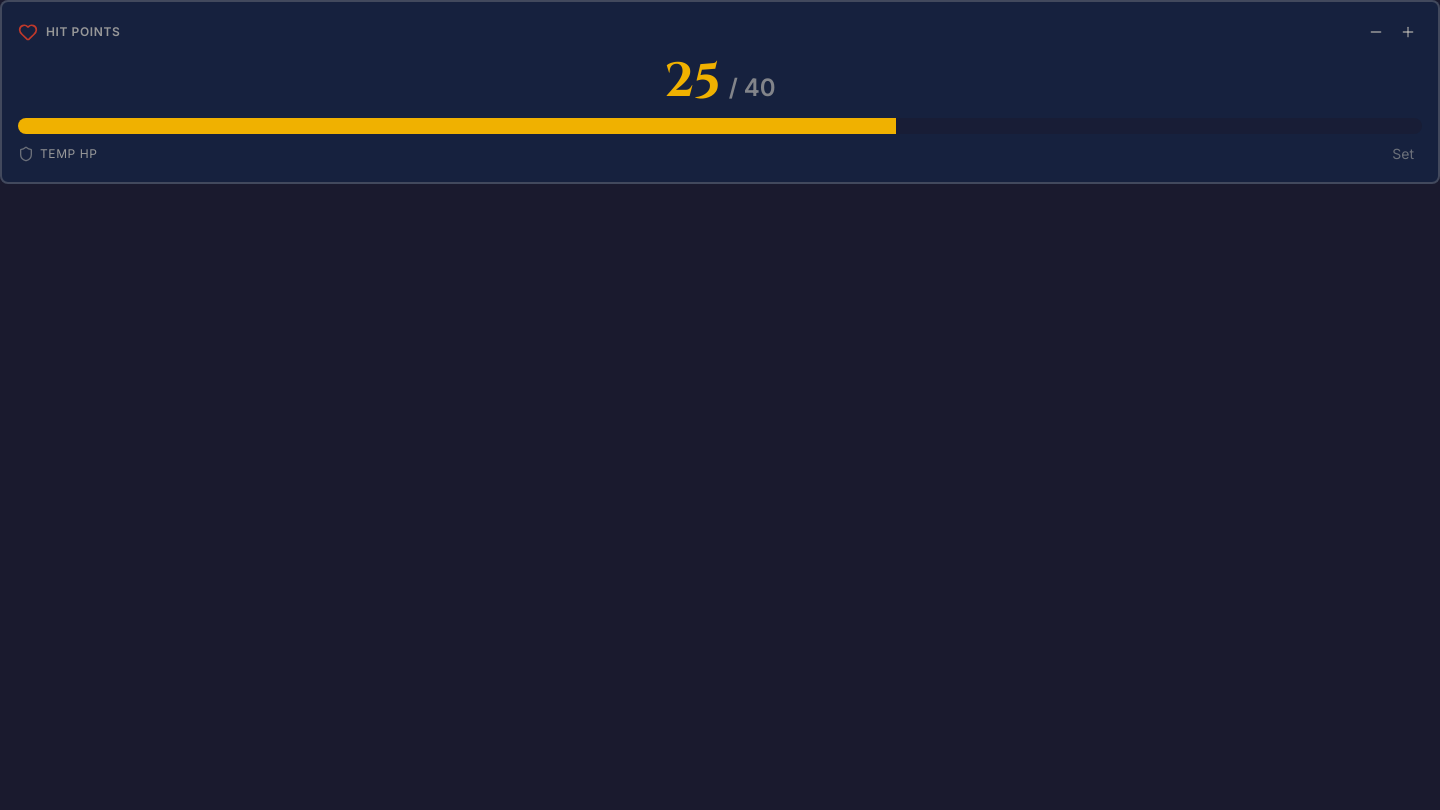
Test: HPSessionTracker › opens heal modal when heal button is clicked
The image size is (1440, 810).
Click the button with test id "open-heal-modal": (1408, 32) [1394,18,1422,46]
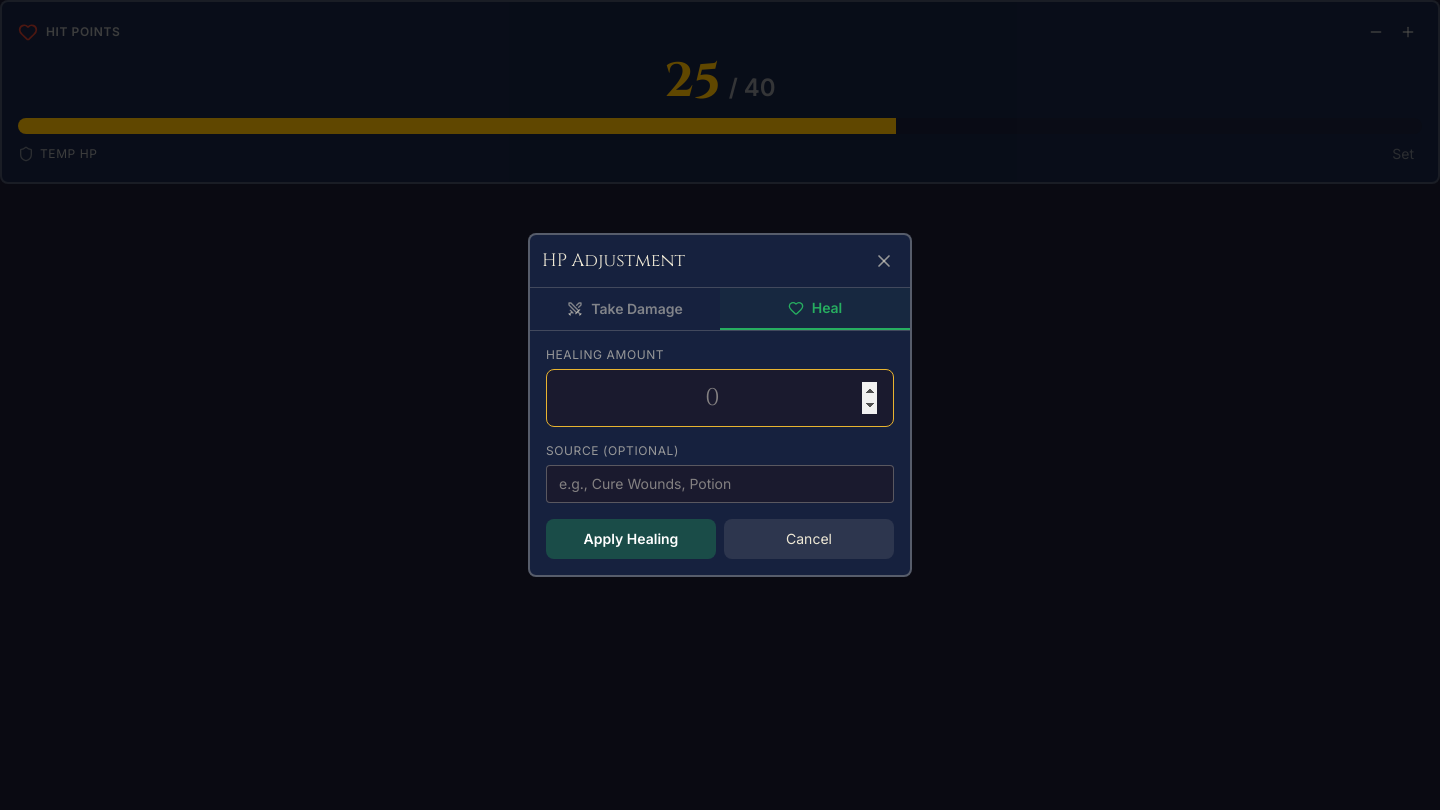
Check: the dialog with test id "damage-heal-modal" is shown
